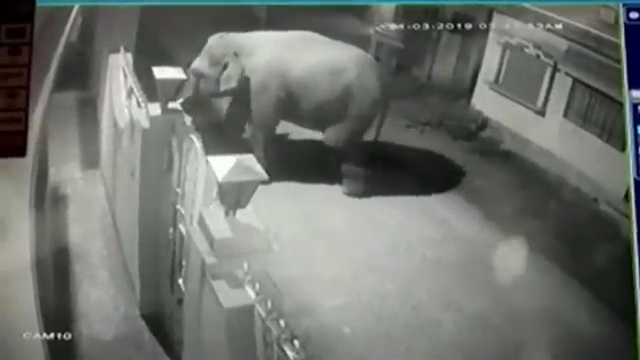Elephant: (176, 30, 388, 198)
